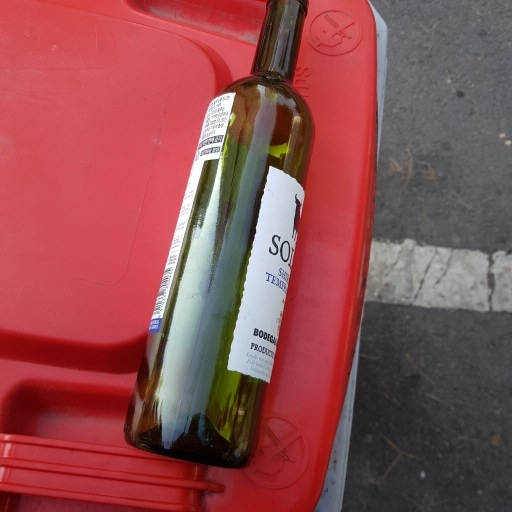Glass_2: (117, 4, 321, 471)
